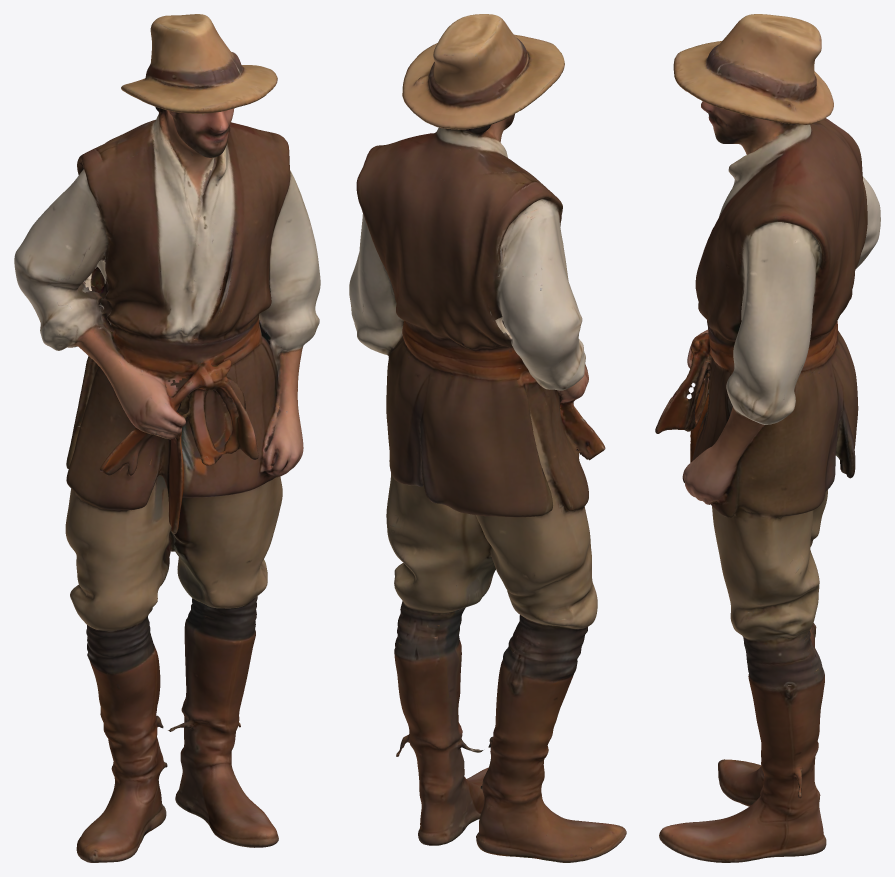
Rendered from humanpeasant1.glb.
The picture shows the model from 3 angles, left to right: view 1: azimuth 30°, elevation 25°; view 2: azimuth 150°, elevation 25°; view 3: azimuth 270°, elevation 25°; orthographic projection.
Bounding box in the file's own units: 0.6724 × 1.99 × 0.4975.
1 material, 1 textured.
